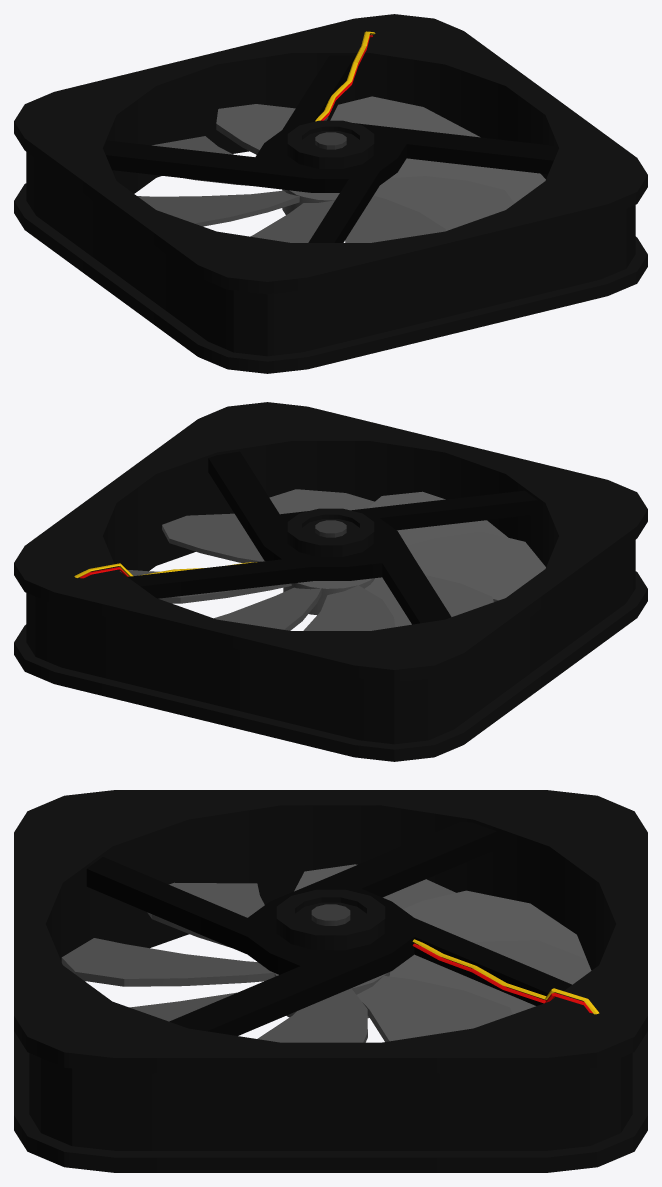
File: Computer_Fan_01.glb
3 views of the same model, one above another, from view 1: azimuth 30°, elevation 25°; view 2: azimuth 150°, elevation 25°; view 3: azimuth 270°, elevation 25° (orthographic). The views are drawn at different scales.
Visible parts, largest first — view 1: Mesh_Fan_01; view 2: Mesh_Fan_01; view 3: Mesh_Fan_01.
Boxes of the visible parts, <box> form: Mesh_Fan_01: <box>14,14,647,373</box>; Mesh_Fan_01: <box>14,402,647,761</box>; Mesh_Fan_01: <box>14,790,647,1172</box>.
Bounding box in the file's own units: 0.1 × 0.022 × 0.1.
Materials: 1 (1 with a texture image).
